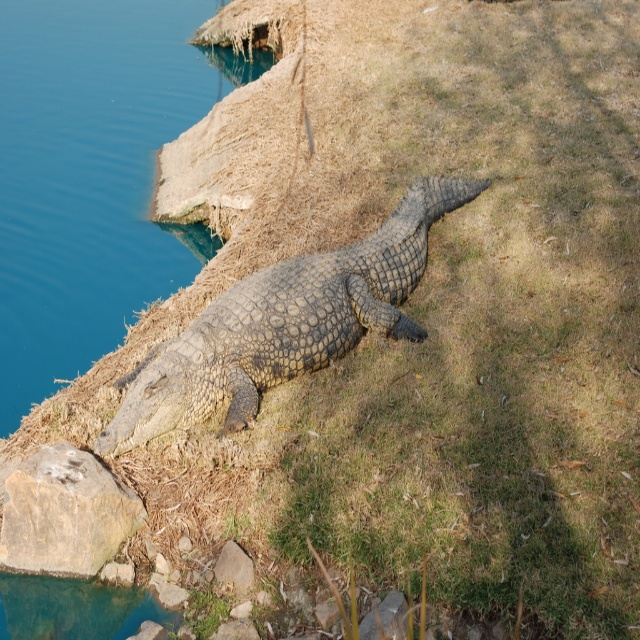Crocodile: (95, 173, 490, 458)
